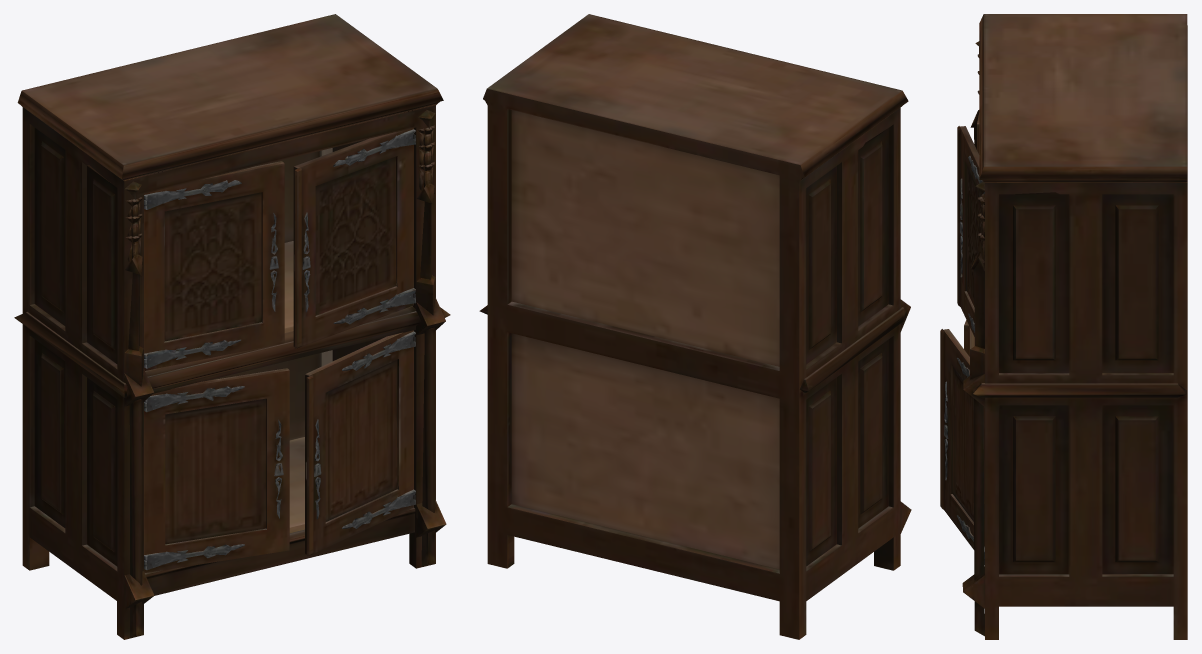
Rendered from cabinet.glb.
3 renders of one model, left to right at view 1: azimuth 30°, elevation 25°; view 2: azimuth 150°, elevation 25°; view 3: azimuth 270°, elevation 25°, orthographic.
Visible parts, largest first — view 1: GothicCabinet_01_cabinet, GothicCabinet_01_door3, GothicCabinet_01_door1, GothicCabinet_01_door2, GothicCabinet_01_door4; view 2: GothicCabinet_01_cabinet; view 3: GothicCabinet_01_cabinet, GothicCabinet_01_door4, GothicCabinet_01_door2.
Part boxes in pixels (<box>): GothicCabinet_01_cabinet: <box>14,14,450,639</box>; GothicCabinet_01_door3: <box>144,368,289,572</box>; GothicCabinet_01_door1: <box>144,161,284,370</box>; GothicCabinet_01_door2: <box>293,128,415,348</box>; GothicCabinet_01_door4: <box>305,330,415,556</box>; GothicCabinet_01_cabinet: <box>479,14,911,639</box>; GothicCabinet_01_cabinet: <box>962,14,1187,639</box>; GothicCabinet_01_door4: <box>940,329,984,564</box>; GothicCabinet_01_door2: <box>957,126,984,337</box>.
Bounding box in the file's own units: 1.71 × 2.36 × 1.12.
Materials: 1 (1 with a texture image).
